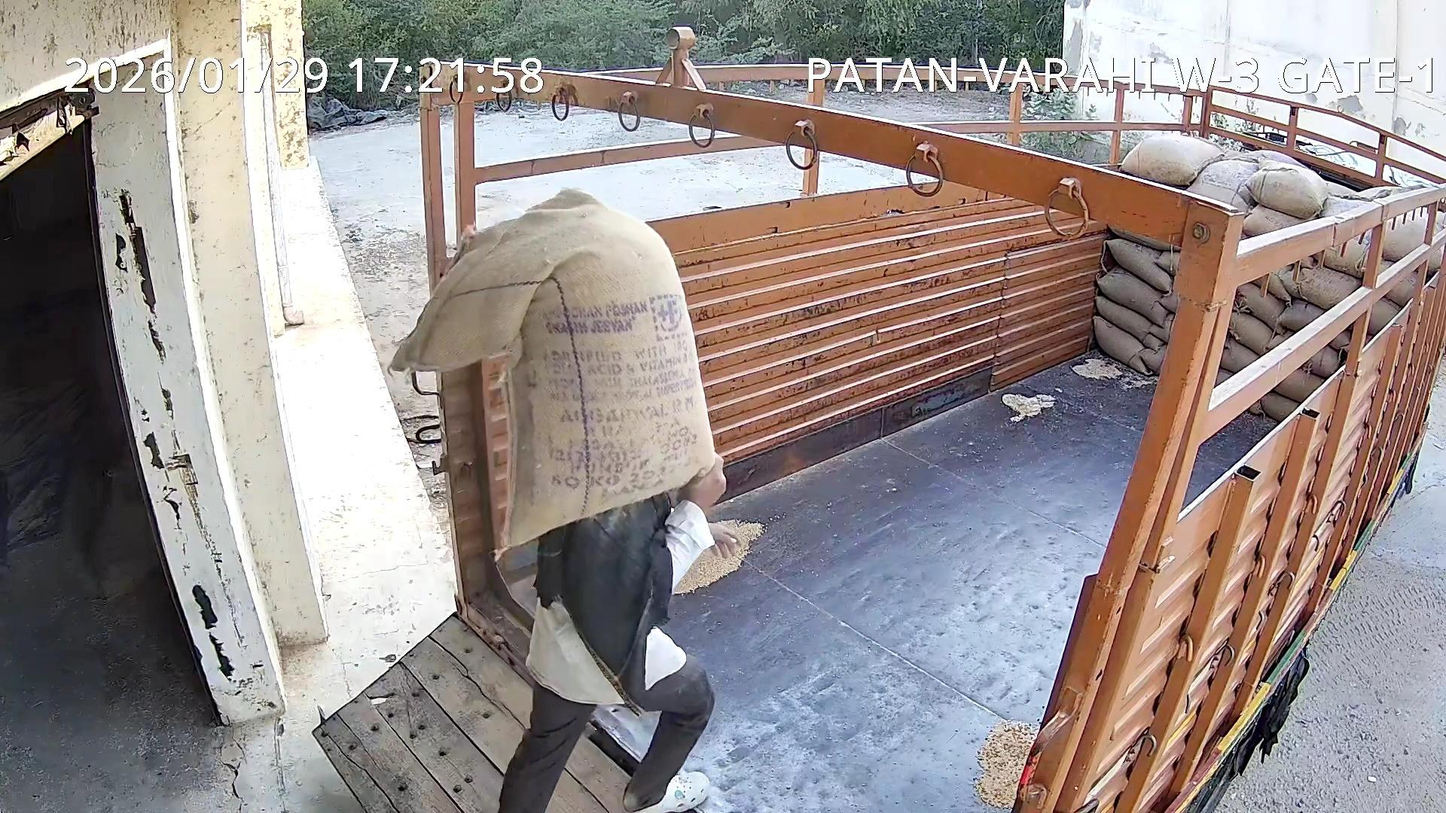Sack: (392, 189, 712, 547)
